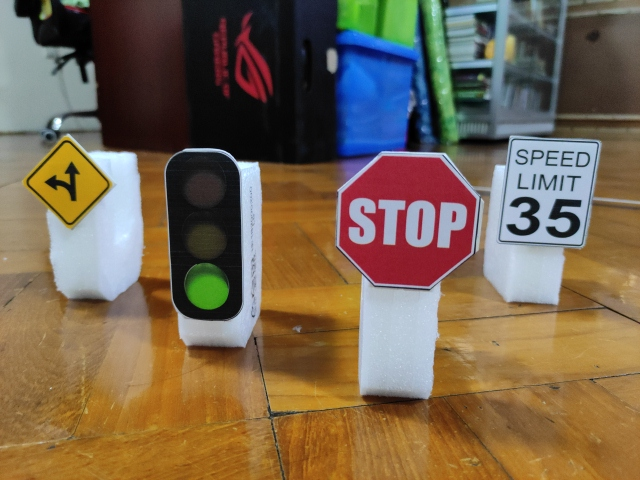Green Traffic Light: (163, 150, 245, 322)
Speed Limit 35: (498, 135, 601, 248)
Stop Sign: (336, 152, 482, 289)
Straight Or Left Sign: (23, 137, 115, 228)
